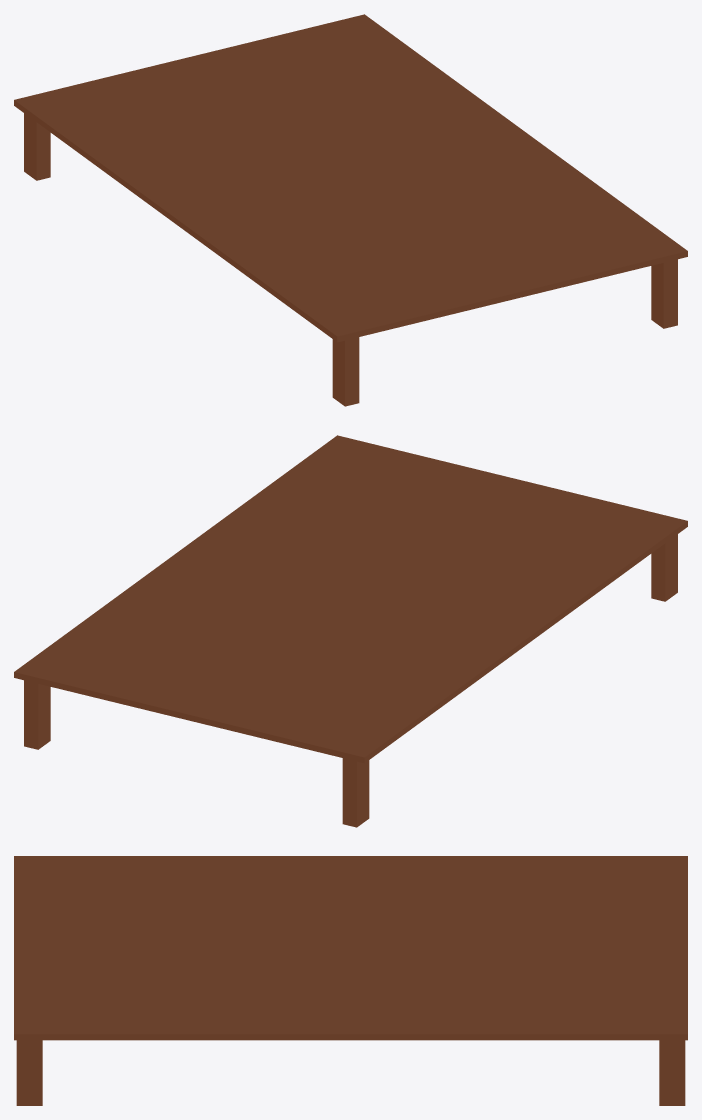
The model's file is table_basse.fbx.
3 views of the same model, one above another, from view 1: azimuth 30°, elevation 25°; view 2: azimuth 150°, elevation 25°; view 3: azimuth 270°, elevation 25° (orthographic). The views are drawn at different scales.
Parts seen in each view (by area): view 1: Table; view 2: Table; view 3: Table.
Boxes of the visible parts, x1,y1,x2,y2 form: Table: [14, 14, 687, 406]; Table: [14, 435, 687, 827]; Table: [14, 856, 687, 1105].
Bounding box in the file's own units: 179 × 35.75 × 287.
